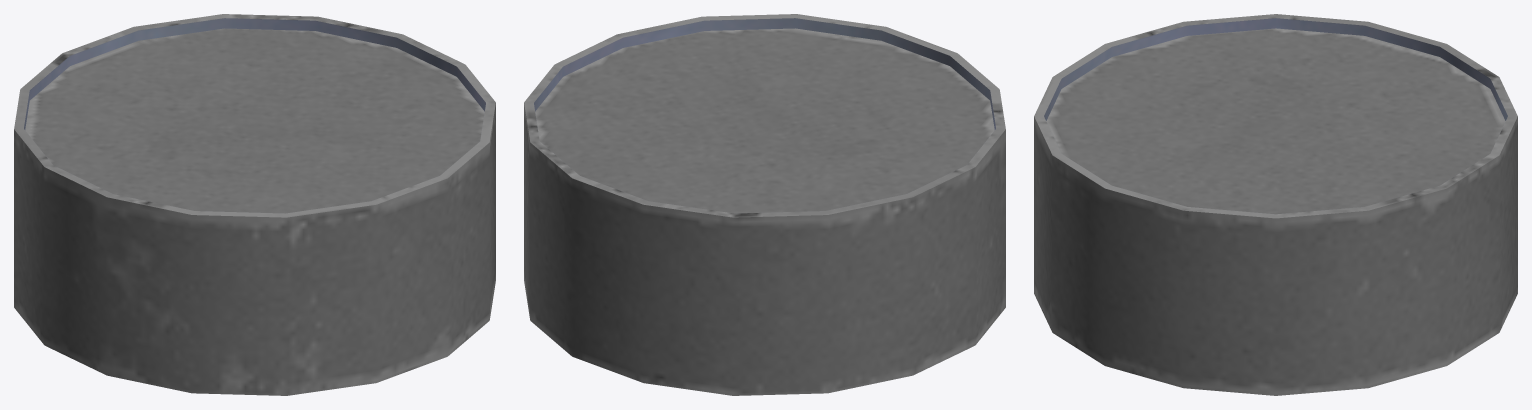
Rendered from Can_2_Closed.001.fbx.
The picture shows the model from 3 angles, left to right: view 1: azimuth 30°, elevation 25°; view 2: azimuth 150°, elevation 25°; view 3: azimuth 270°, elevation 25°; orthographic projection.
Visible parts, largest first — view 1: Can_2_Closed.001; view 2: Can_2_Closed.001; view 3: Can_2_Closed.001.
Boxes of the visible parts, x1=… form: Can_2_Closed.001: x1=14, y1=14, x2=495, y2=395; Can_2_Closed.001: x1=524, y1=14, x2=1005, y2=395; Can_2_Closed.001: x1=1034, y1=14, x2=1517, y2=395.
Bounding box in the file's own units: 0.1129 × 0.0457 × 0.1129.
